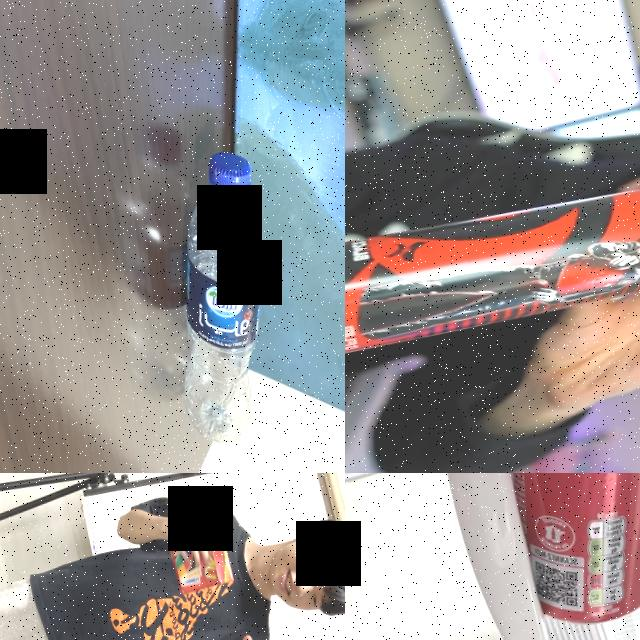bottle: (109, 142, 322, 473)
can: (345, 159, 640, 369), (453, 473, 640, 637)
